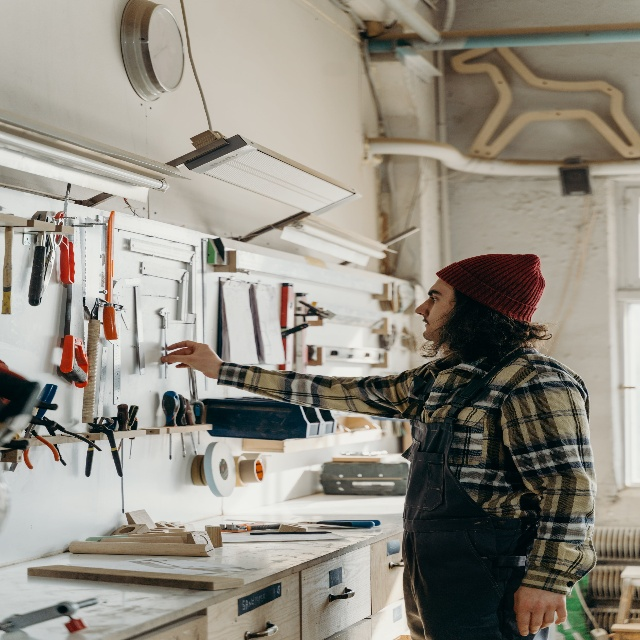Sin_guantes: (514, 584, 567, 640), (161, 340, 218, 377)
